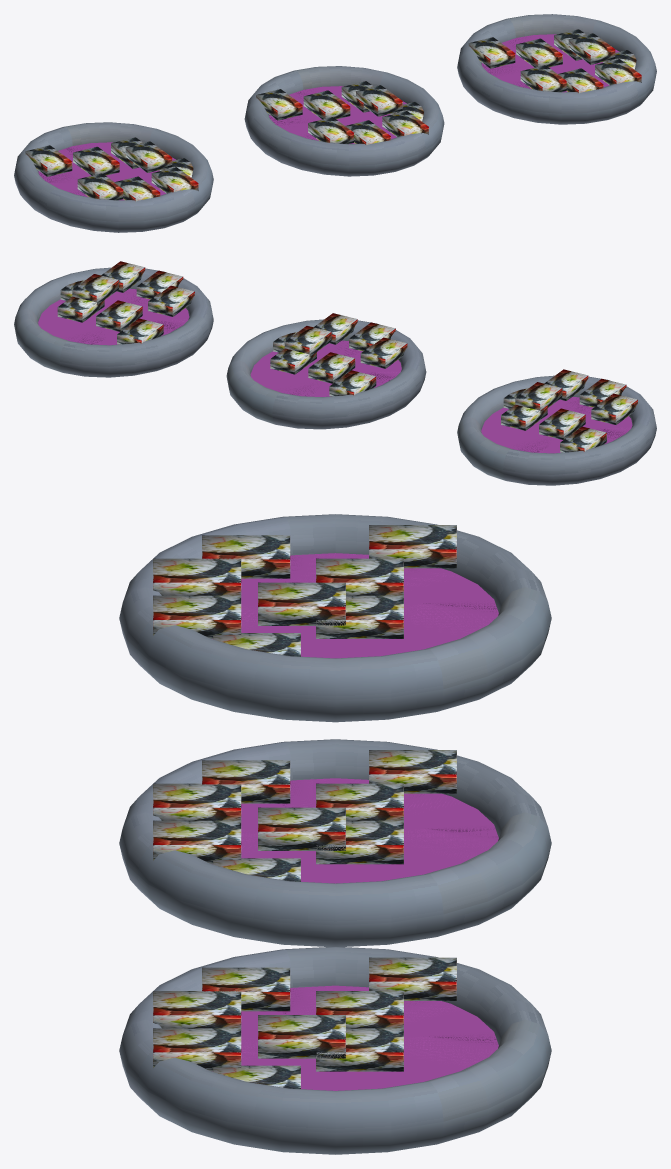
Rendered from platosushi.obj.
3 views of the same model, one above another, from view 1: azimuth 30°, elevation 25°; view 2: azimuth 150°, elevation 25°; view 3: azimuth 270°, elevation 25° (orthographic). The views are drawn at different scales.
Parts seen in each view (by area): view 1: Torus004, Torus006, Torus002, Cylinder004, Cylinder002, Cylinder006, Box010, Box042, Box026, Box028, Box044, Box012 (+15 smaller); view 2: Torus004, Torus006, Torus002, Cylinder004, Cylinder002, Cylinder006, Box028, Box012, Box044, Box032, Box016, Box048 (+15 smaller); view 3: Torus002, Torus004, Torus006, Cylinder004, Cylinder002, Cylinder006, Box010, Box026, Box042, Box011, Box027, Box043 (+18 smaller).
Part boxes in pixels (x1=…): Torus004: x1=244, y1=66, x2=444, y2=176; Torus006: x1=457, y1=14, x2=656, y2=124; Torus002: x1=14, y1=122, x2=213, y2=232; Cylinder004: x1=269, y1=86, x2=406, y2=144; Cylinder002: x1=38, y1=142, x2=175, y2=200; Cylinder006: x1=481, y1=34, x2=619, y2=92; Box010: x1=125, y1=141, x2=172, y2=172; Box042: x1=568, y1=33, x2=615, y2=64; Box026: x1=356, y1=85, x2=402, y2=116; Box028: x1=303, y1=90, x2=350, y2=119; Box044: x1=516, y1=38, x2=562, y2=67; Box012: x1=73, y1=146, x2=119, y2=175; Torus004: x1=226, y1=319, x2=426, y2=429; Torus006: x1=14, y1=267, x2=213, y2=377; Torus002: x1=457, y1=375, x2=656, y2=485; Cylinder004: x1=250, y1=340, x2=401, y2=396; Cylinder002: x1=481, y1=397, x2=632, y2=453; Cylinder006: x1=38, y1=288, x2=189, y2=345; Box028: x1=308, y1=352, x2=355, y2=383; Box012: x1=539, y1=408, x2=585, y2=439; Box044: x1=96, y1=300, x2=142, y2=331; Box032: x1=360, y1=337, x2=407, y2=368; Box016: x1=591, y1=393, x2=637, y2=424; Box048: x1=148, y1=285, x2=194, y2=316; Torus002: x1=119, y1=514, x2=551, y2=722; Torus004: x1=119, y1=739, x2=551, y2=946; Torus006: x1=119, y1=946, x2=551, y2=1154; Cylinder004: x1=241, y1=778, x2=498, y2=883; Cylinder002: x1=212, y1=553, x2=498, y2=658; Cylinder006: x1=212, y1=985, x2=498, y2=1090; Box010: x1=258, y1=582, x2=345, y2=625; Box026: x1=258, y1=807, x2=345, y2=850; Box042: x1=258, y1=1015, x2=345, y2=1058; Box011: x1=369, y1=525, x2=456, y2=568; Box027: x1=369, y1=750, x2=456, y2=793; Box043: x1=369, y1=957, x2=456, y2=1000.
Bounding box in the file's own units: 3.58 × 0.2257 × 1.1.
